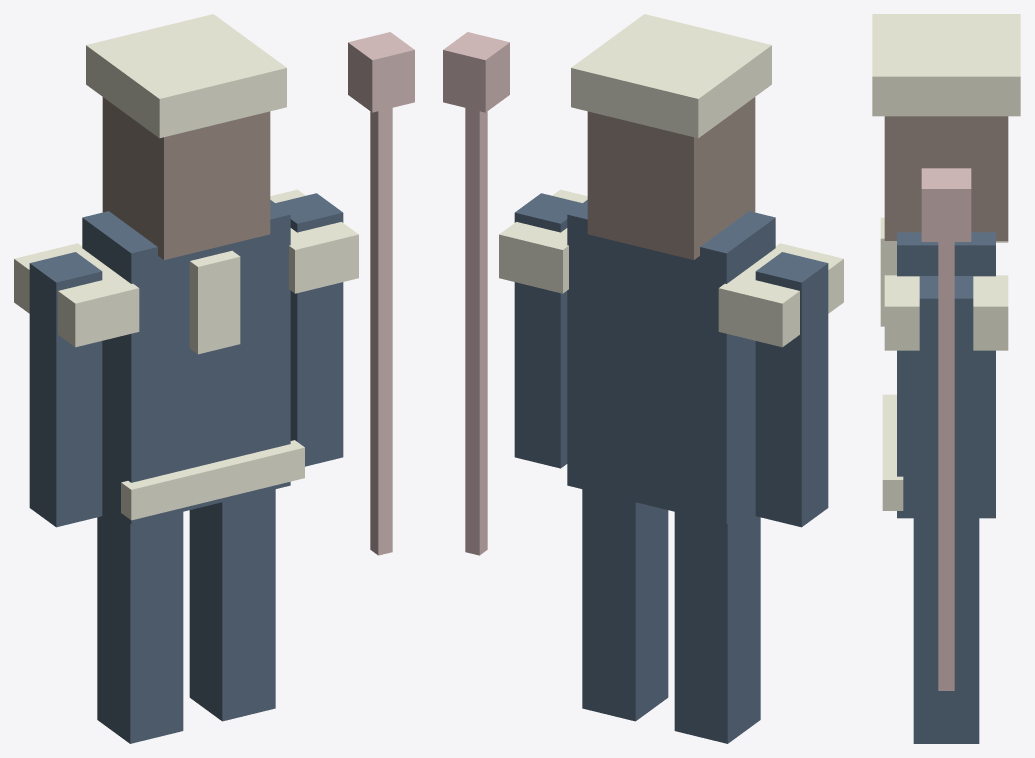
The model's file is 18_kiva_skyharrow_courier_under_troop.glb.
The picture shows the model from 3 angles, left to right: view 1: azimuth 30°, elevation 25°; view 2: azimuth 150°, elevation 25°; view 3: azimuth 270°, elevation 25°; orthographic projection.
Parts seen in each view (by area): view 1: Kiva Skyharrow, Courier under Troop; view 2: Kiva Skyharrow, Courier under Troop; view 3: Kiva Skyharrow, Courier under Troop.
Boxes of the visible parts, bbox=[...] form: Kiva Skyharrow, Courier under Troop: bbox=[14, 14, 414, 743]; Kiva Skyharrow, Courier under Troop: bbox=[443, 14, 843, 743]; Kiva Skyharrow, Courier under Troop: bbox=[872, 14, 1020, 743].
Bounding box in the file's own units: 0.9602 × 1.68 × 0.3406.
